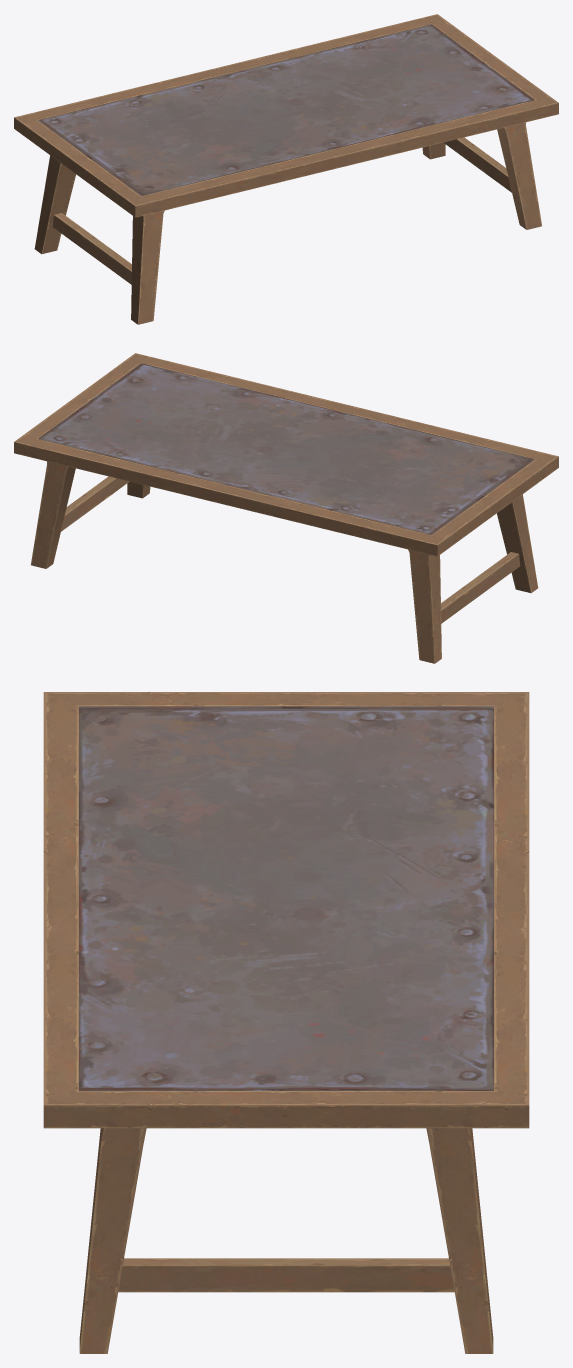
File: Homeworld_Interior_Fd_Table_Prop_Sxgc_01_Vo.fbx
The picture shows the model from 3 angles, top to bottom: view 1: azimuth 30°, elevation 25°; view 2: azimuth 150°, elevation 25°; view 3: azimuth 270°, elevation 25°; orthographic projection. The views are drawn at different scales.
Parts seen in each view (by area): view 1: Area_Fd_Prop_SXGC_Table_01_Vo; view 2: Area_Fd_Prop_SXGC_Table_01_Vo; view 3: Area_Fd_Prop_SXGC_Table_01_Vo.
Boxes of the visible parts, x1,y1,x2,y2 form: Area_Fd_Prop_SXGC_Table_01_Vo: (14, 14, 558, 324); Area_Fd_Prop_SXGC_Table_01_Vo: (14, 353, 558, 663); Area_Fd_Prop_SXGC_Table_01_Vo: (43, 692, 529, 1353).
Size of the model in its own units: 2.66 by 0.7686 by 1.32.
